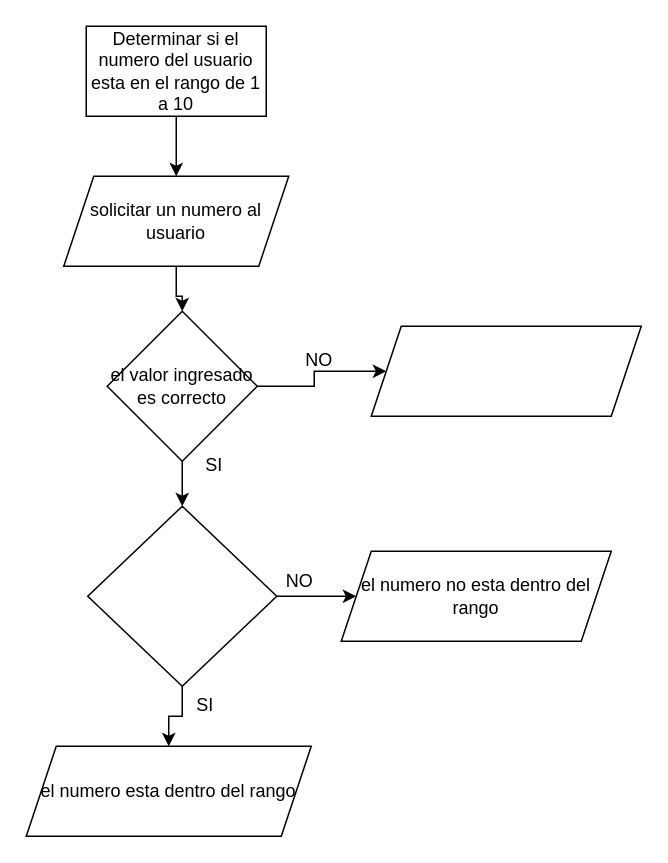
Image size: 668x863. Some labels were removed from this diagram. Each missing label, with the centre of its shape:
"ingresa un numero correcto" goes at (x=505, y=370).
"numero es mayor que 1 y menor que 10" goes at (x=181, y=595).
